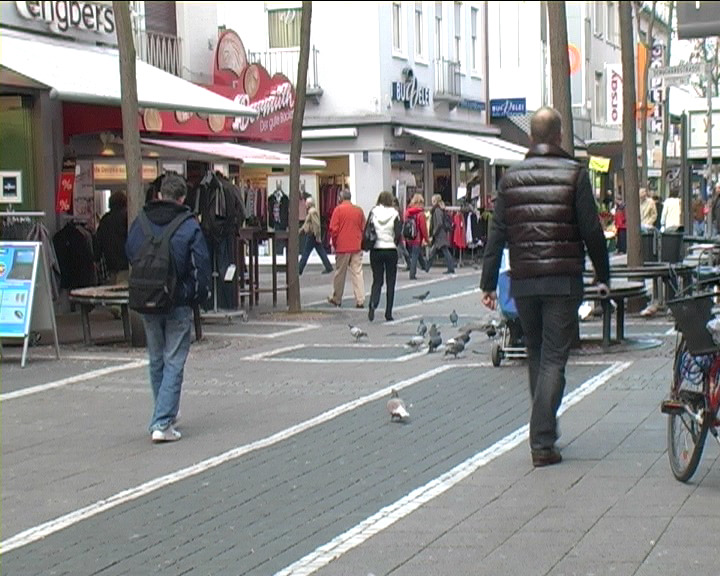undeflect: (140, 174, 204, 247)
